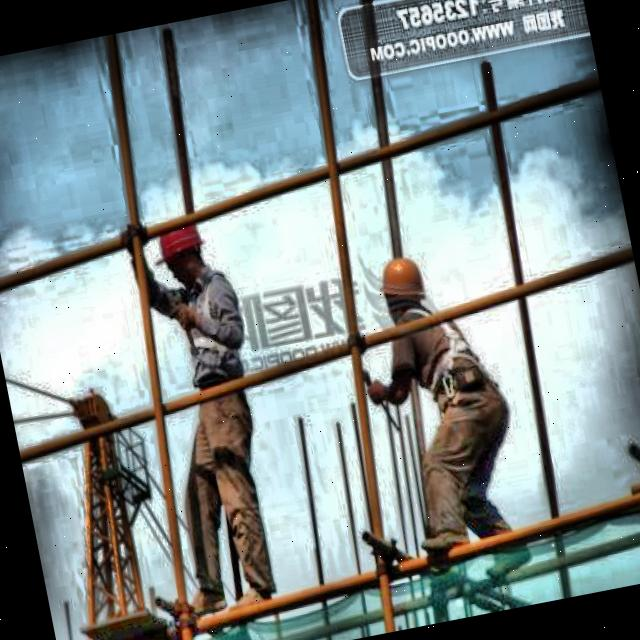helmet: (374, 248, 434, 330), (153, 216, 212, 286)
